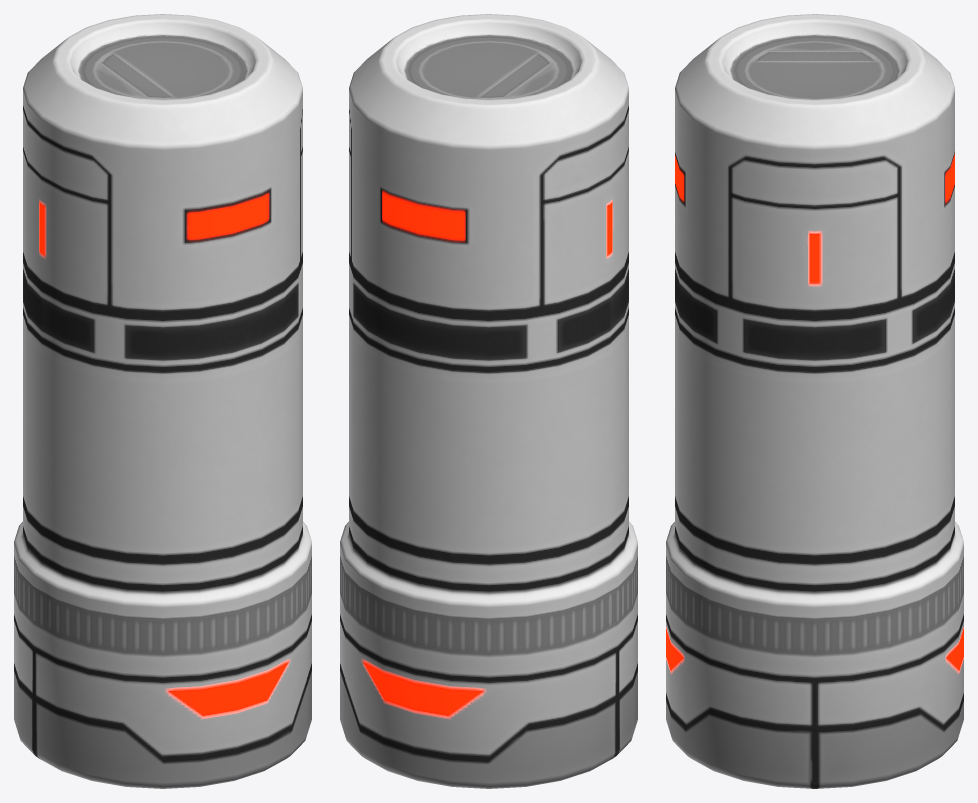
File: LabBarrels01_2.FBX
3 views of the same model, side by side, from view 1: azimuth 30°, elevation 25°; view 2: azimuth 150°, elevation 25°; view 3: azimuth 270°, elevation 25° (orthographic).
Visible parts, largest first — view 1: LabBarrels01_2; view 2: LabBarrels01_2; view 3: LabBarrels01_2.
Boxes of the visible parts, bbox=[...] form: LabBarrels01_2: bbox=[14, 14, 311, 788]; LabBarrels01_2: bbox=[340, 14, 637, 788]; LabBarrels01_2: bbox=[666, 14, 963, 788].
Size of what is drawn, in the model's own units: 0.4457 by 1.11 by 0.4457.
